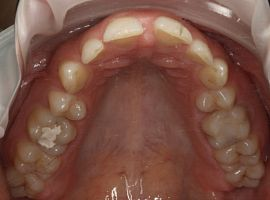UL1BC_decay: (198, 87, 237, 113)
UL1M_decay: (216, 138, 259, 174)
UL2BC_healthy: (201, 106, 248, 150)
UL2M_decay: (225, 164, 263, 191)
ULCI_healthy: (150, 19, 191, 49)
ULC_healthy: (199, 60, 231, 89)
ULLI_healthy: (186, 41, 213, 65)
UR1BC_decay: (45, 92, 88, 122)
UR1M_decay: (13, 144, 61, 181)
UR2BC_decay: (27, 110, 77, 156)
UR2M_decay: (8, 165, 51, 198)
URCI_healthy: (103, 15, 145, 42)
URC_healthy: (56, 60, 90, 94)
URLI_healthy: (79, 38, 105, 65)
